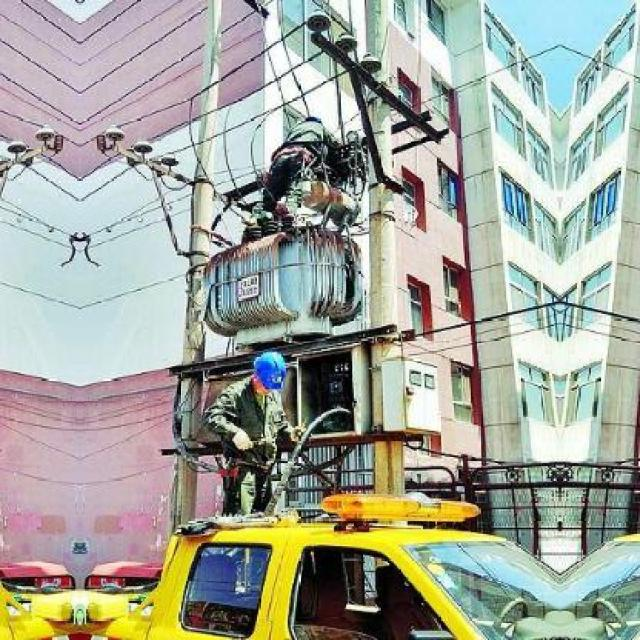helmet: (249, 347, 289, 398)
